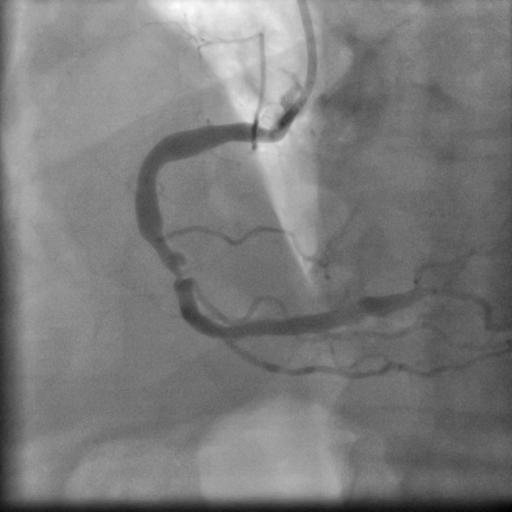Stenosis: (144, 243, 198, 291)
